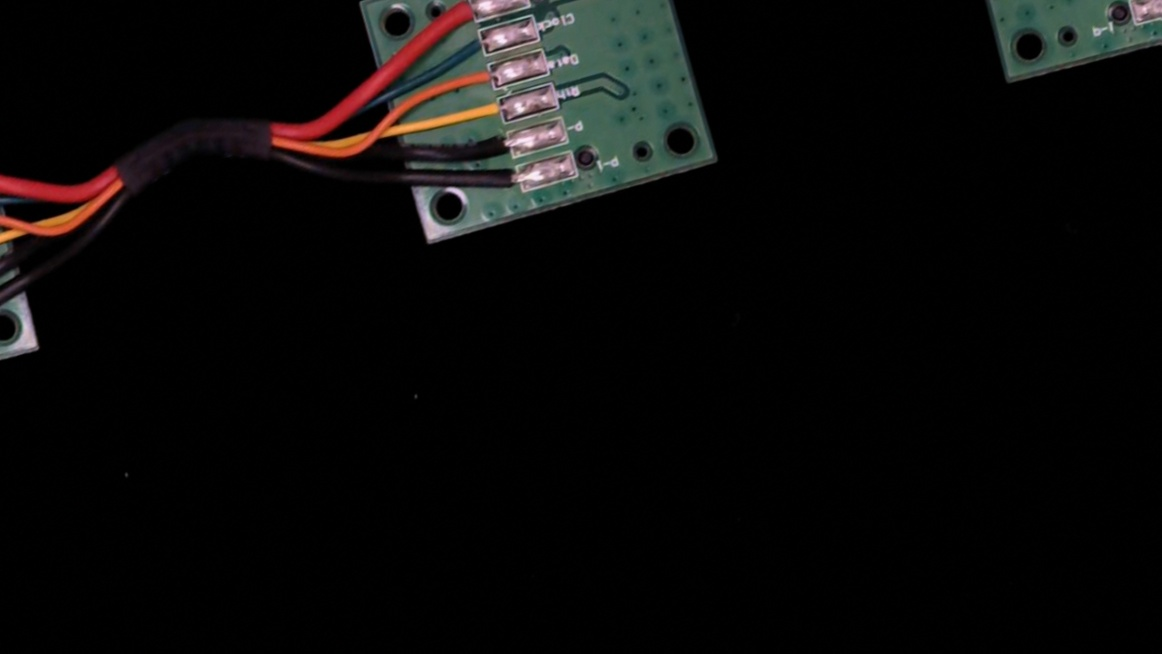Black: (466, 128, 531, 170)
Black1: (474, 164, 540, 209)
Green: (444, 25, 506, 67)
Orange: (452, 59, 514, 100)
Red: (427, 0, 497, 36)
Yellow: (455, 95, 522, 135)
